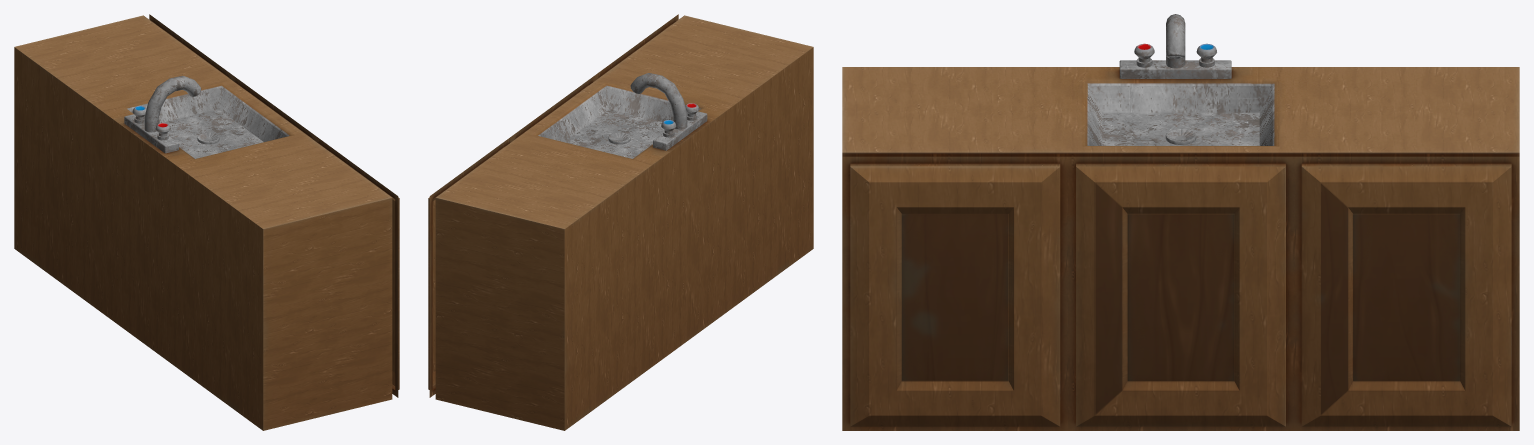
The model's file is AslanHouseKitchenSink.fbx.
3 renders of one model, left to right at view 1: azimuth 30°, elevation 25°; view 2: azimuth 150°, elevation 25°; view 3: azimuth 270°, elevation 25°, orthographic. The views are drawn at different scales.
Visible parts, largest first — view 1: Cube.020, Vert, Cube, Cylinder; view 2: Cube.020, Vert, Cube, Cylinder; view 3: Cube.020, Cube, Vert, Cylinder.
Boxes of the visible parts, x1,y1,x2,y2 form: Cube.020: (14,14,399,430); Vert: (144,75,201,132); Cube: (124,114,178,153); Cylinder: (132,106,170,140); Cube.020: (428,14,813,430); Vert: (630,73,687,129); Cube: (653,111,707,150); Cylinder: (661,103,699,137); Cube.020: (842,67,1519,430); Cube: (1119,60,1231,78); Vert: (1166,14,1185,68); Cylinder: (1134,43,1216,67).
Bounding box in the file's own units: 85.49 × 146 × 258.
1 material, 1 textured.
